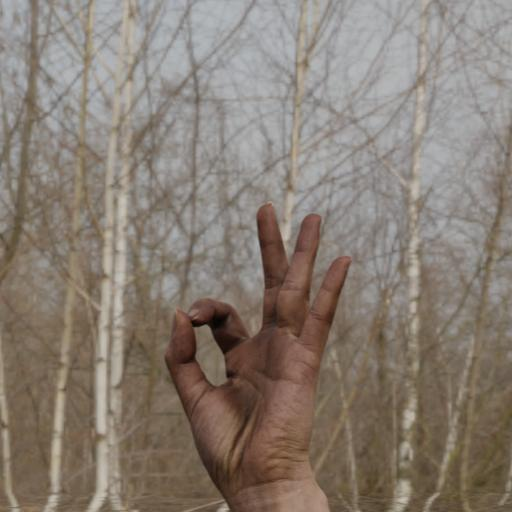F: (148, 188, 367, 512)
